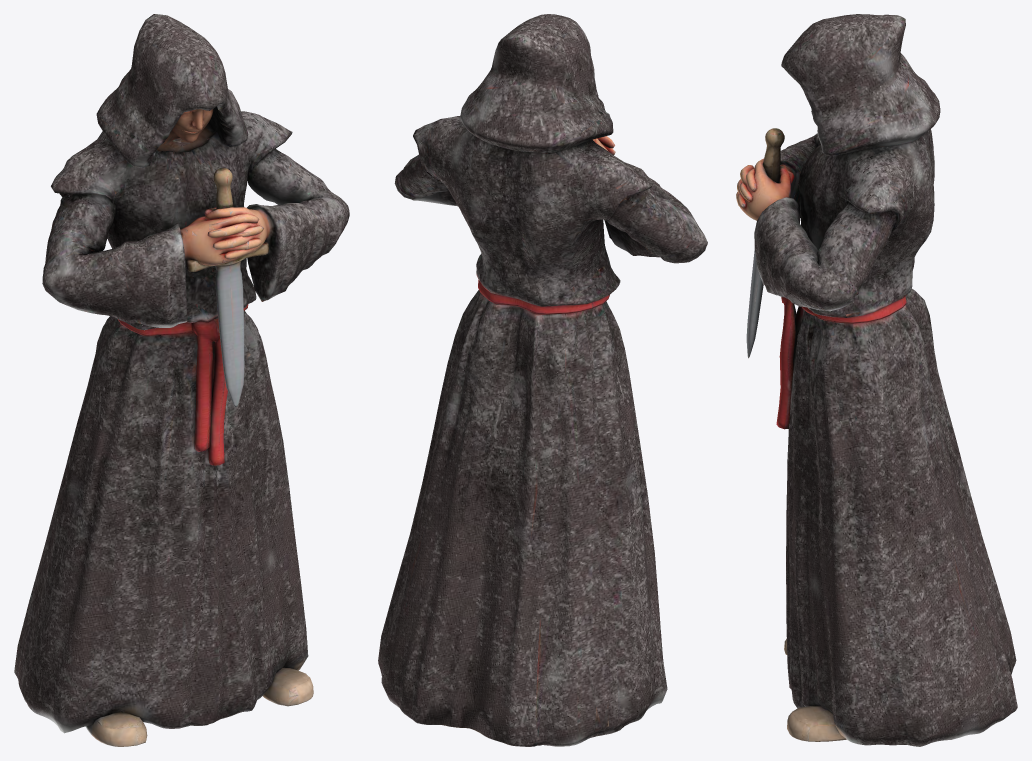
Rendered from MZ4250 - Cultist.glb.
3 renders of one model, left to right at view 1: azimuth 30°, elevation 25°; view 2: azimuth 150°, elevation 25°; view 3: azimuth 270°, elevation 25°, orthographic. The views are drawn at different scales.
Visible parts, largest first — view 1: default; view 2: default; view 3: default.
Part boxes in pixels (box(x1,y1,x2,y2)): default: box(14, 14, 349, 746); default: box(378, 14, 707, 746); default: box(736, 14, 1017, 746).
Bounding box in the file's own units: 0.4786 × 0.9926 × 0.3778.
Materials: 1 (1 with a texture image).
